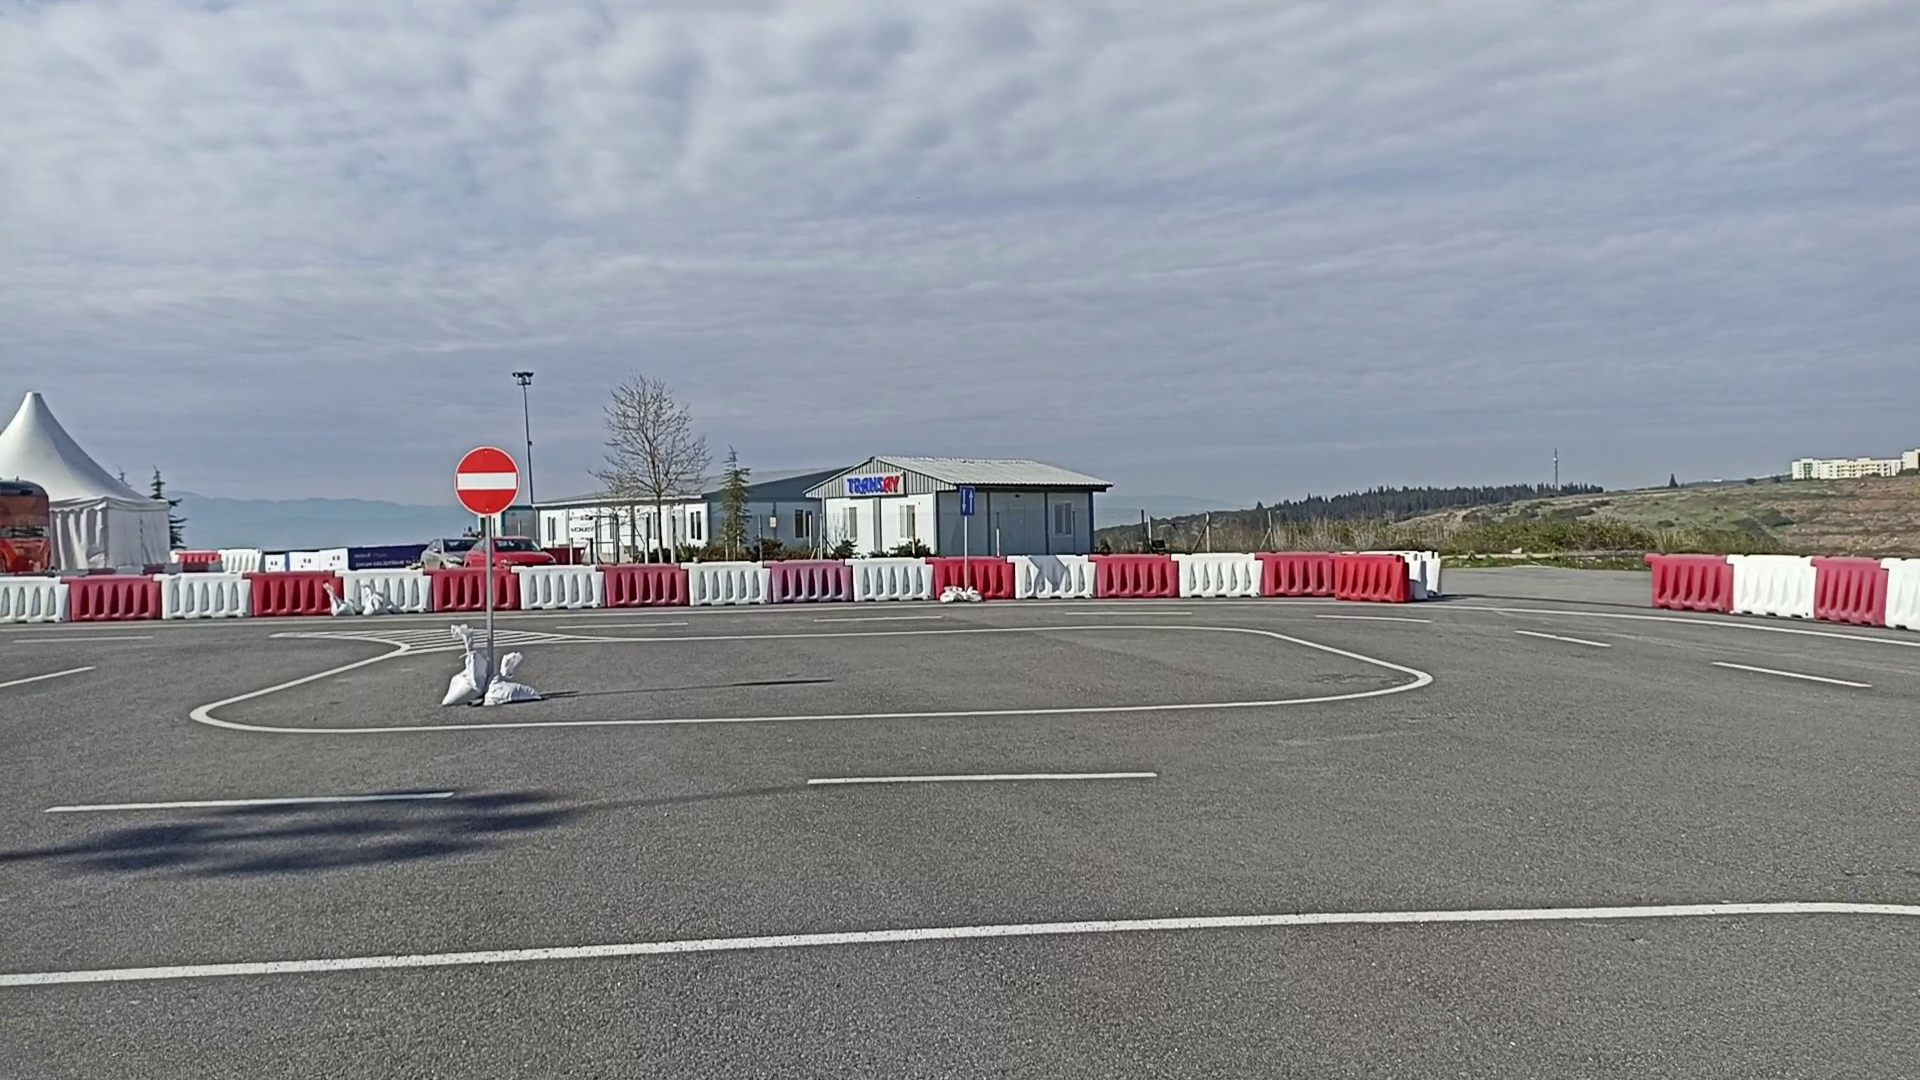noentryway: (452, 446, 522, 517)
